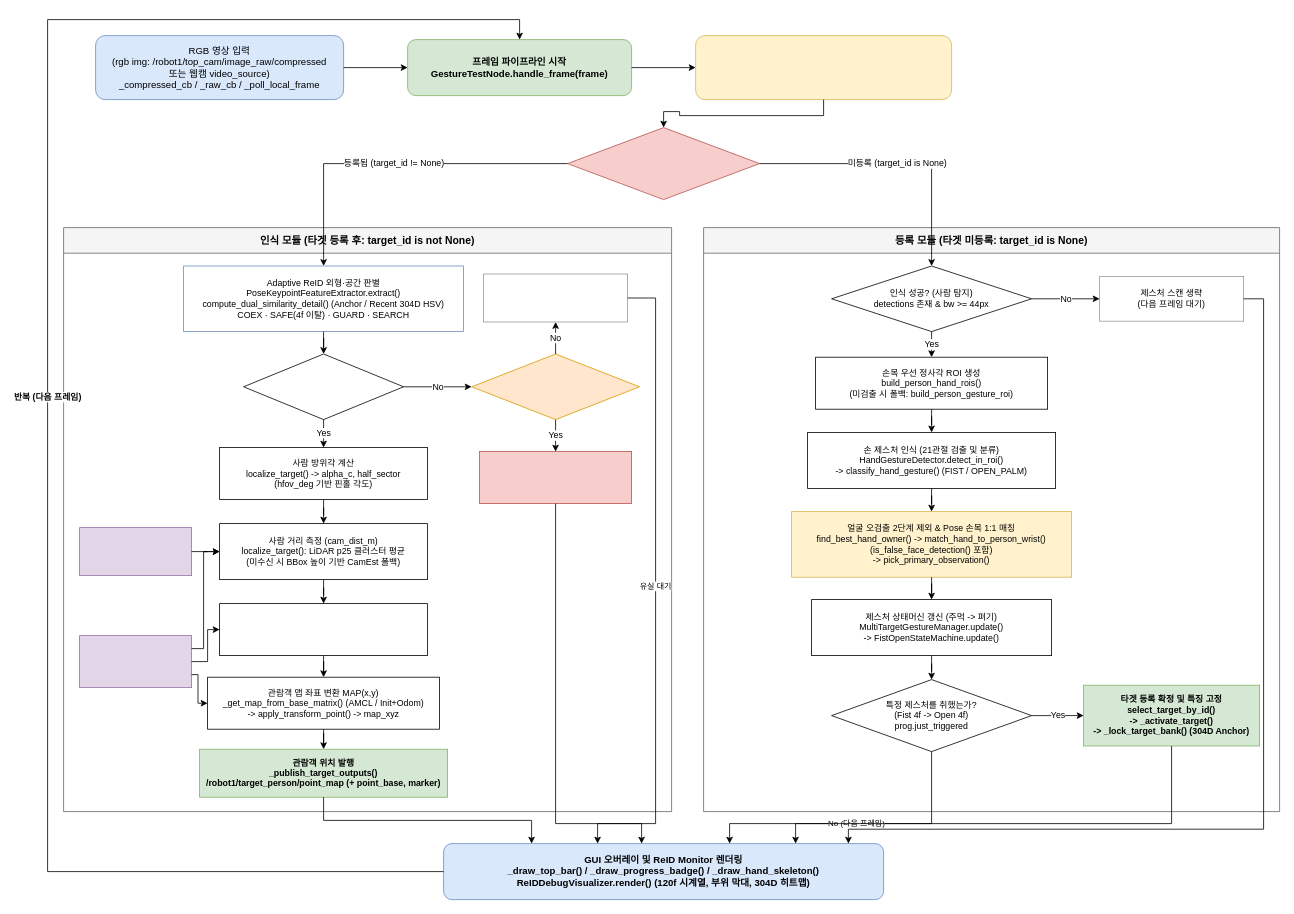
This 1294x914 diagram has some shape labels left out. The shapes that lost their labels are listed below. From the top down, each one's centre as x and y in pixels, then its label:
the point at 823,67: 사람 탐지 및 1차 추적 MultiModelTrackerCore.process_frame() (YOLO26n-pose + ByteTrack)
the point at 663,163: 타겟 등록 여부? tracker.target_id
the point at 555,297: SEARCH 재식별 대기 LOST_WAIT 상태 발행
the point at 323,386: 타겟 인식 성공? target is not None
the point at 555,386: 유실 10초 경과? target_lost_elapsed >= 10s
the point at 555,477: 타겟 자동 초기화 _reset_target() (등록 모듈 상태로 복귀)
the point at 135,551: 라이다 스캔 /robot1/scan -> _on_scan()
the point at 323,629: 관람객 좌표 계산 CAM(x,y,z) -> base_link 변환 localize_target(): cam_xyz -> base_xyz
the point at 135,661: /tf_static & /tf _on_tf_static_msg() _on_tf_msg() / _lookup()
